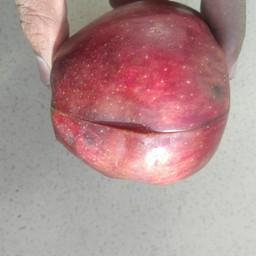Bad_apple: (49, 4, 238, 184)
